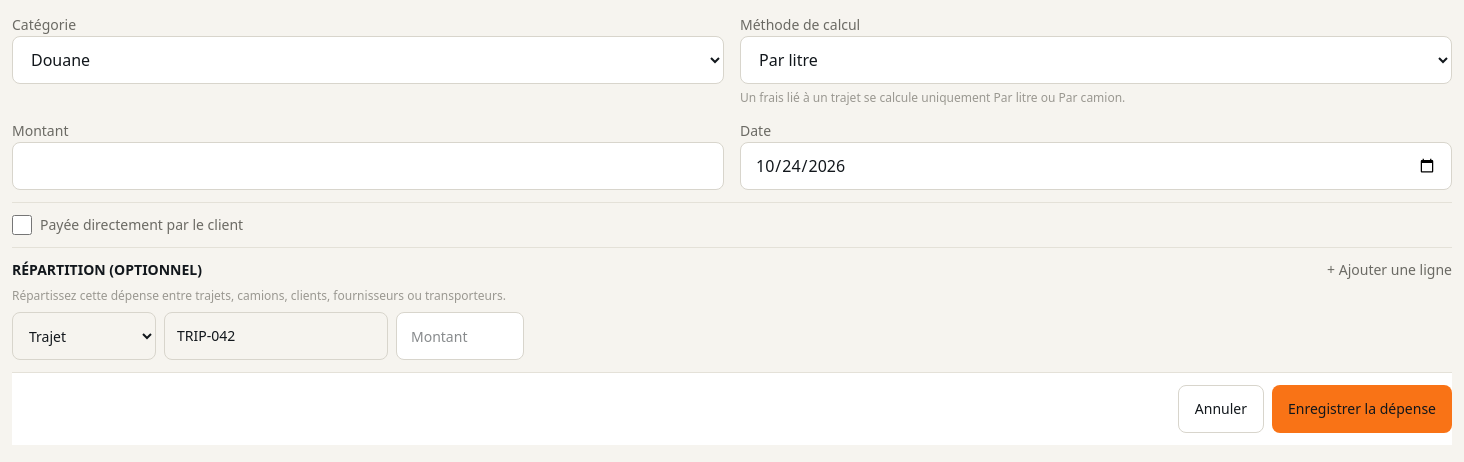
Test: ExpenseForm › auto-syncs the top amount into the single preset line without touching it directly
The image size is (1464, 462).
Type "12000" into the number field labelled "Montant" below "Date".
click(368, 166); type("12000")  # box [12,142,724,190]
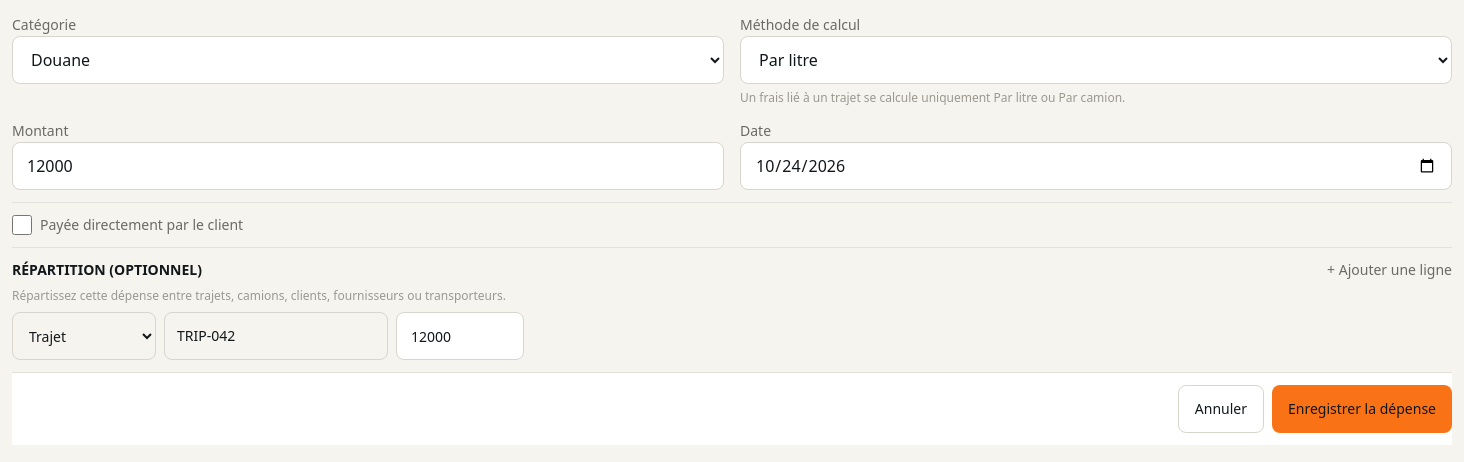
Result: the 2nd number field holds "12000" at [396,312,524,360]
Replace the text in the number field labelled "Montant" with "18000" at [368, 166], box [12,142,724,190]
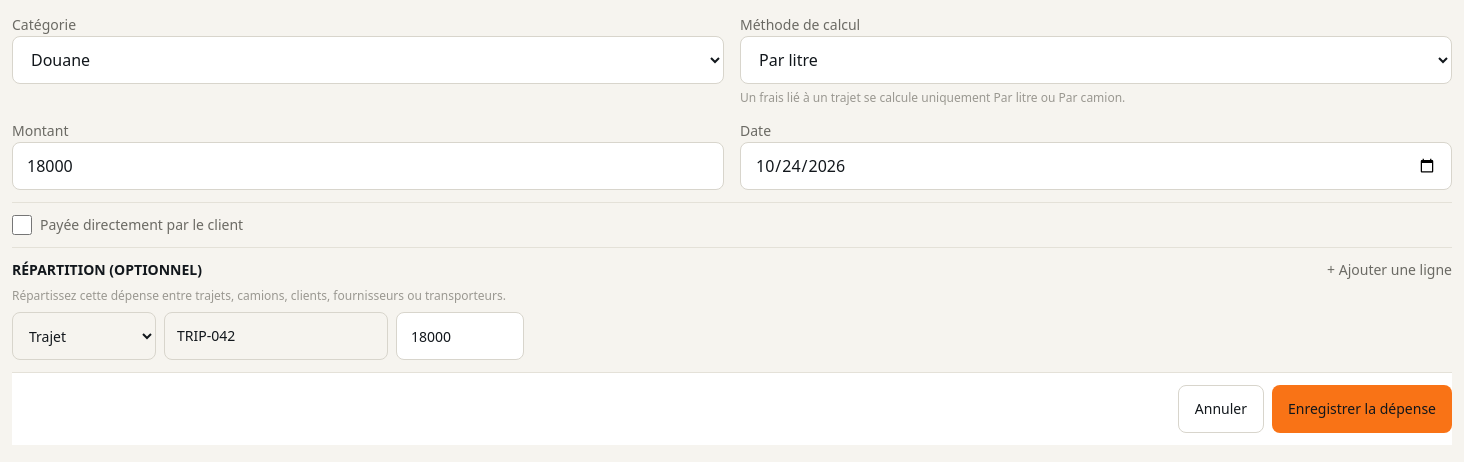
Result: the 2nd number field holds "18000" at [396,312,524,360]
